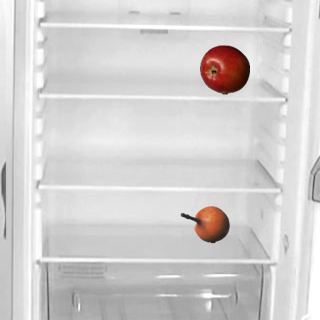Apple Braeburn: (199, 44, 249, 94)
Granadilla: (179, 199, 229, 249)
